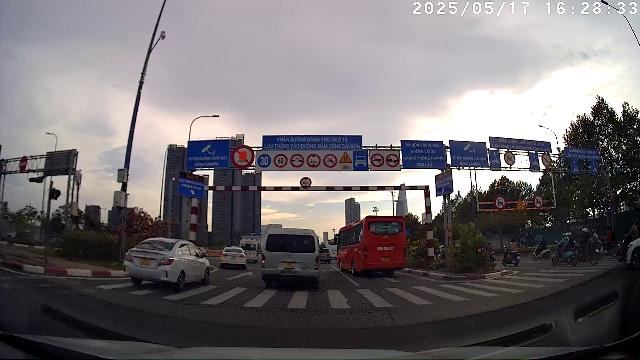103a-cam-oto: (494, 195, 507, 210), (504, 151, 516, 166), (532, 195, 544, 208)
127-toc-do-toi-da-60: (273, 153, 288, 168)
